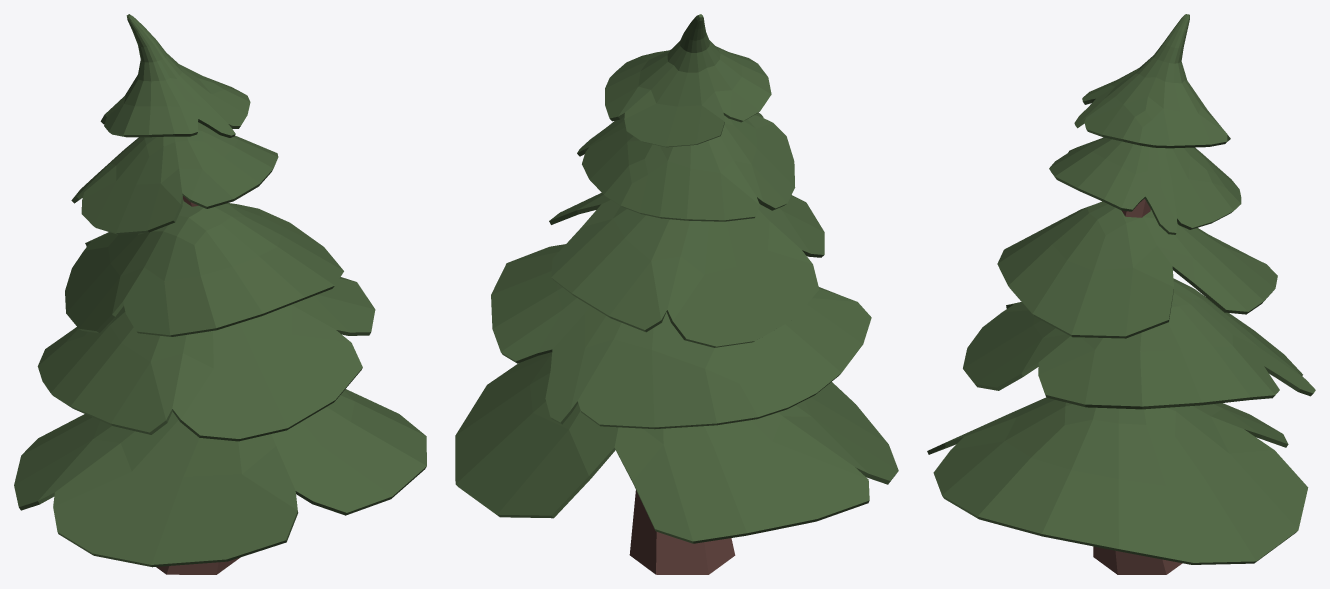
File: pine1.glb
3 renders of one model, left to right at view 1: azimuth 30°, elevation 25°; view 2: azimuth 150°, elevation 25°; view 3: azimuth 270°, elevation 25°, orthographic. The views are drawn at different scales.
Parts seen in each view (by area): view 1: PineTree_1; view 2: PineTree_1; view 3: PineTree_1.
Part boxes in pixels (x1,y1,x2,y2): PineTree_1: (14, 14, 426, 574); PineTree_1: (455, 14, 898, 574); PineTree_1: (927, 14, 1315, 574).
Size of the model in its own units: 1.96 by 2.7 by 1.82.
